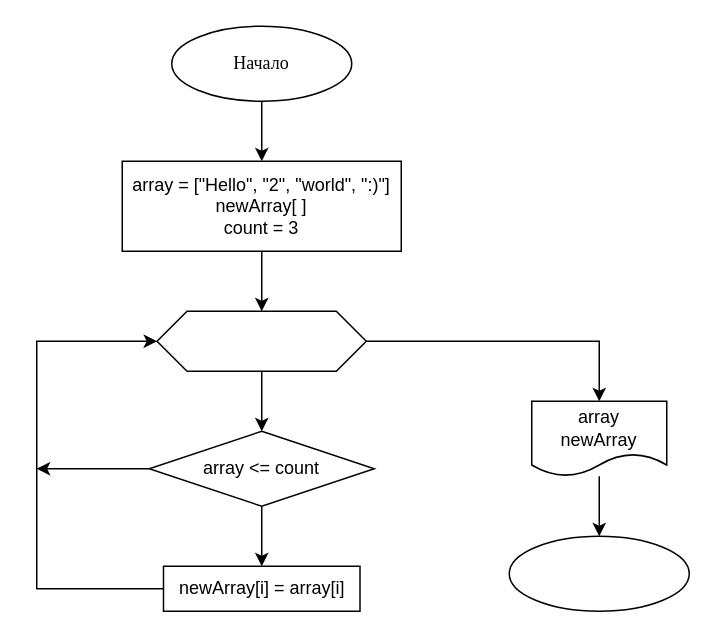
The diagram is 716 pixels wide and 638 high, and some of its shapes have lost their labels. The box of each missing label's shape, as (x1, y1, x2, y2) in pixels:
i = 0, i < array, 1: (156, 310, 366, 371)
Конец: (508, 535, 689, 611)
